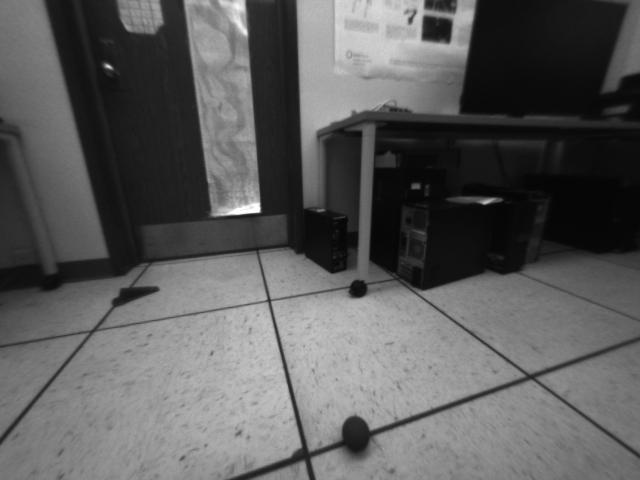dogtoy: (333, 404, 384, 464)
